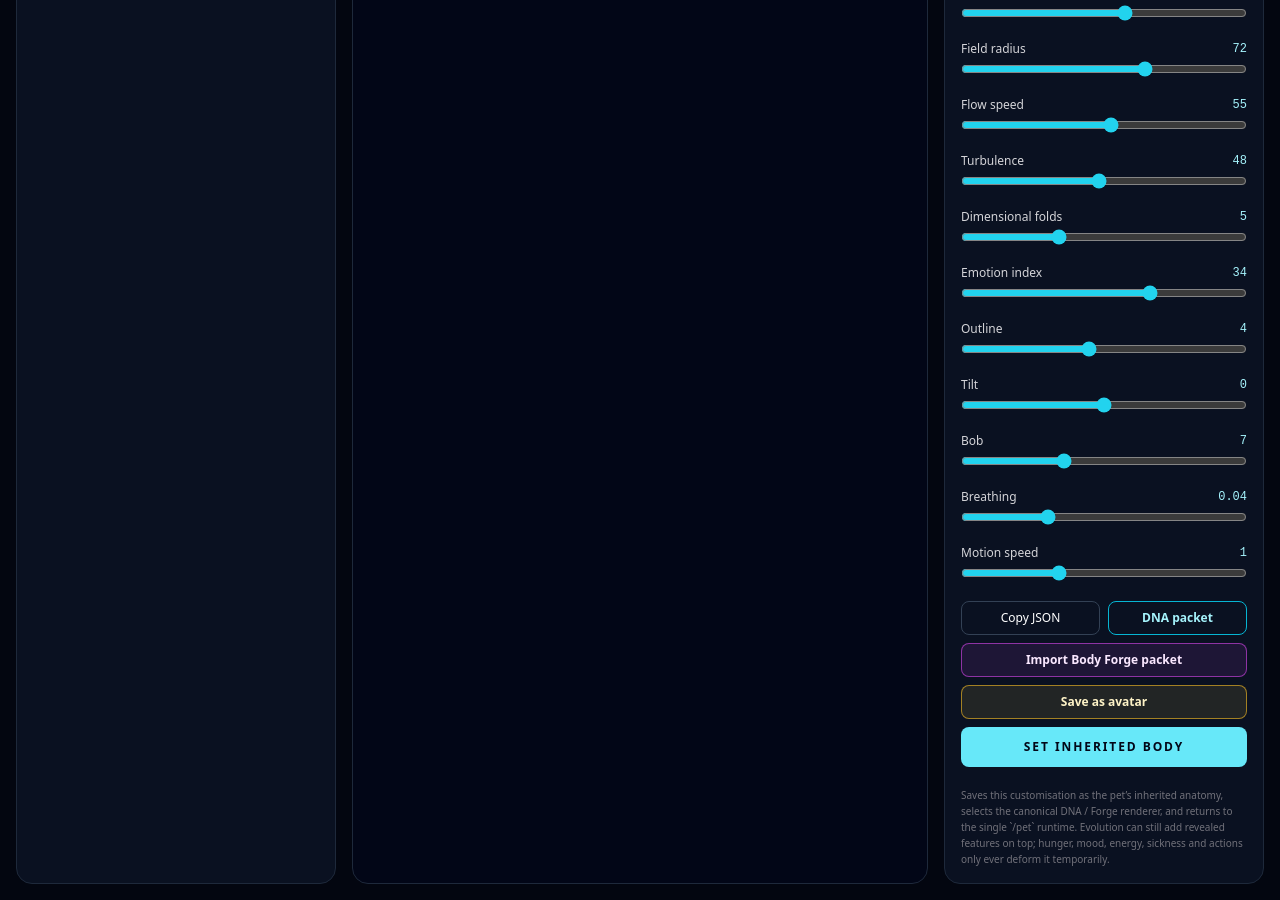
Test case: Body Forge identity avatar export › requires confirmation before replacing an existing avatar
(page scrolled)
Click the button "Save as avatar": x=1104, y=702 top-left (961, 684), bottom-right (1247, 718)
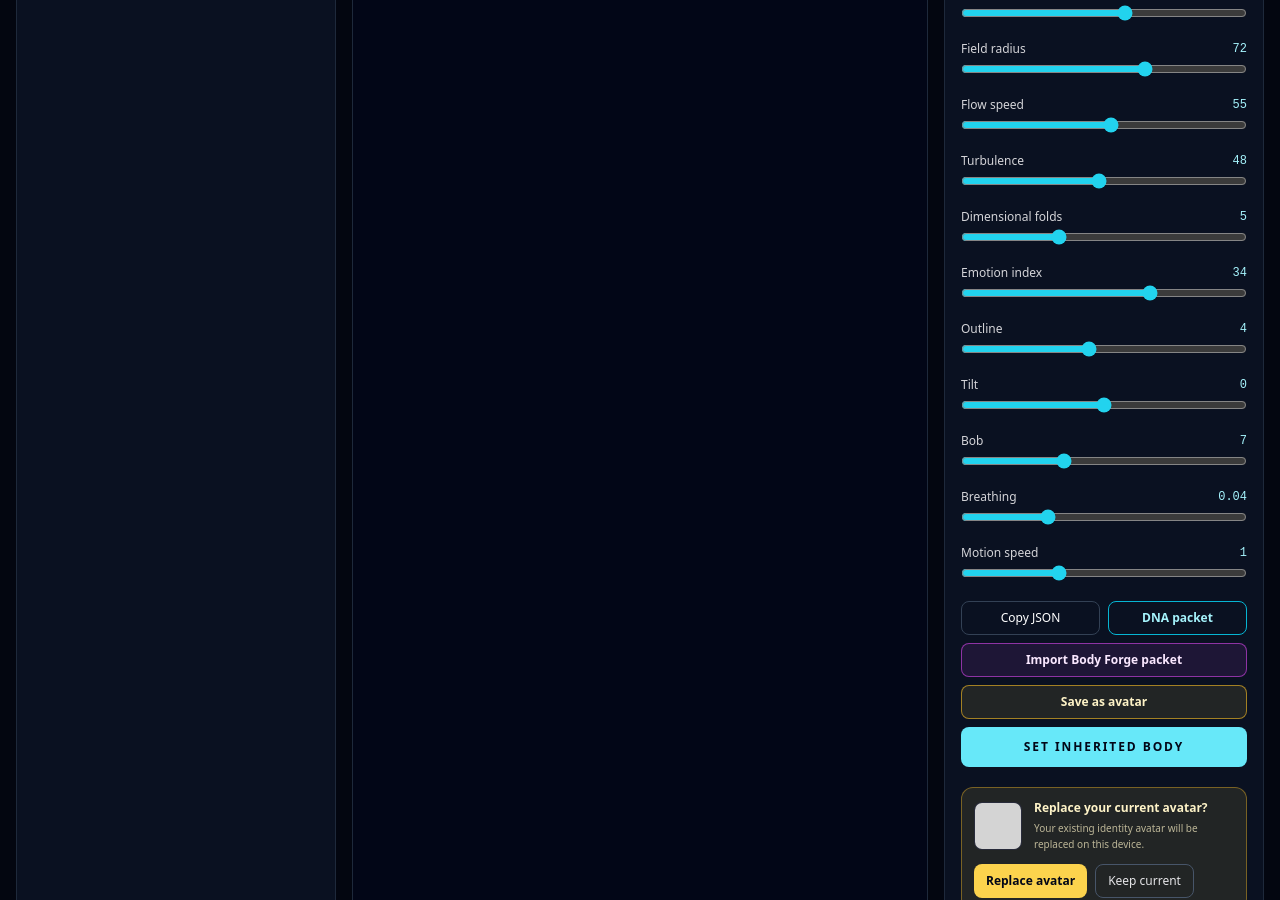
Click the button "Replace avatar": x=1031, y=880 top-left (974, 864), bottom-right (1087, 898)
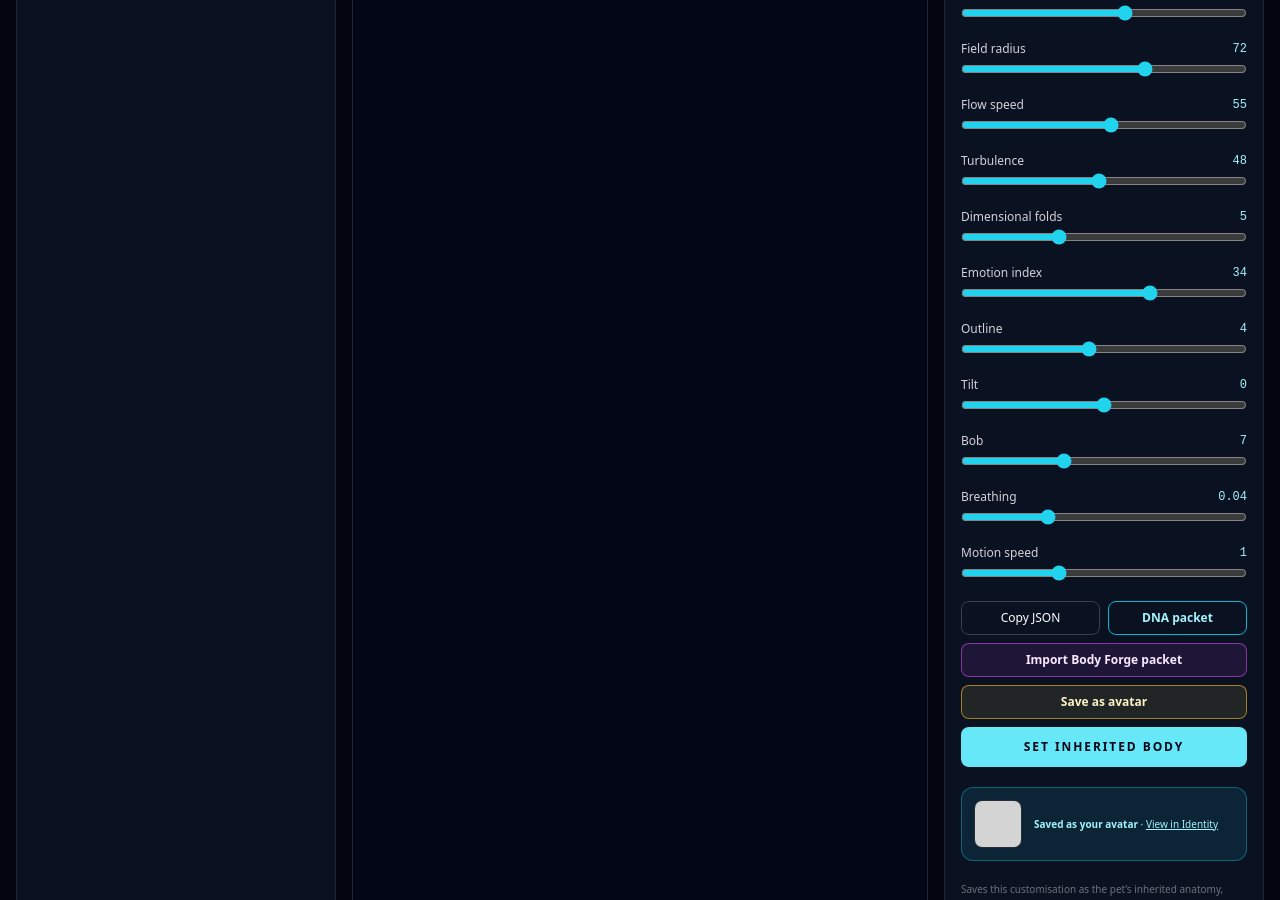
expect the text "Saved as your avatar" is shown: met, box top-left (1034, 816), bottom-right (1138, 830)
